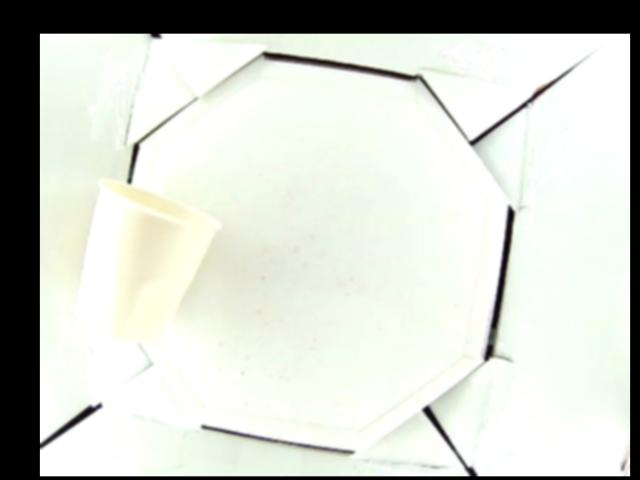Cup: (72, 180, 220, 342)
